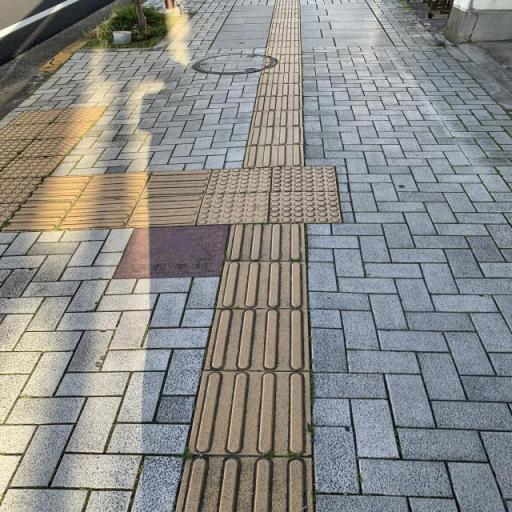dot: (196, 192, 270, 226), (270, 192, 342, 222), (205, 167, 274, 194), (270, 166, 337, 192)
line: (186, 371, 313, 456), (204, 309, 311, 372), (216, 260, 307, 309), (225, 224, 306, 261), (56, 197, 138, 230), (126, 194, 206, 225), (75, 172, 151, 201), (139, 169, 212, 197), (244, 143, 305, 167), (248, 126, 304, 144)
